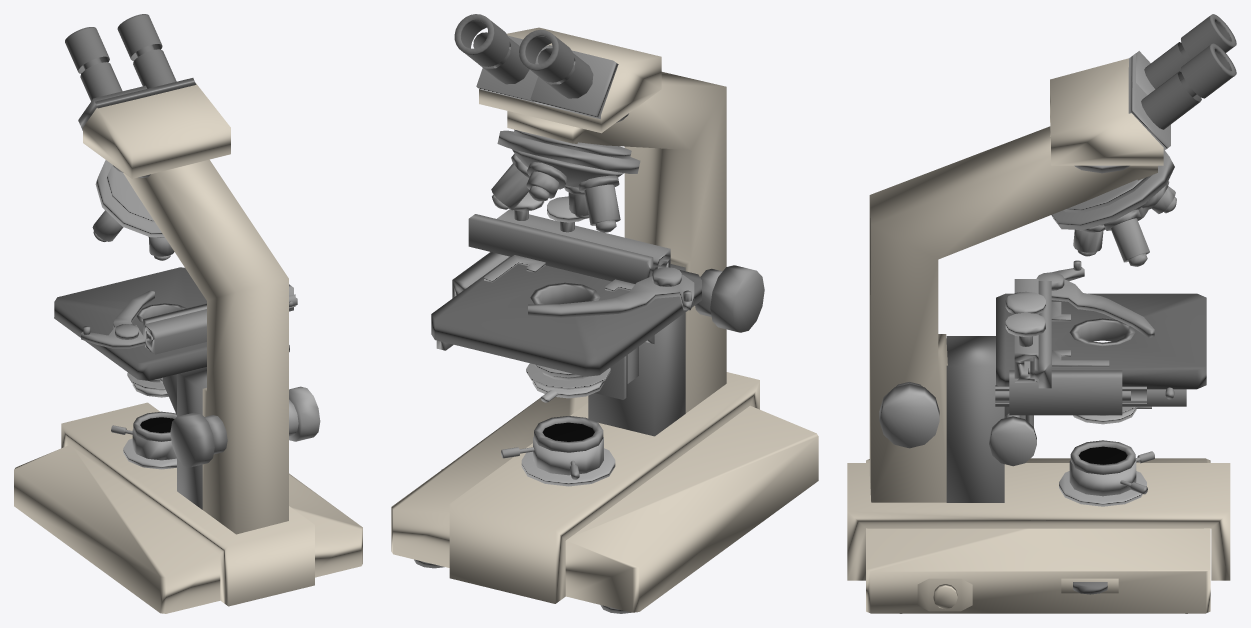
File: micro.fbx
3 renders of one model, left to right at view 1: azimuth 30°, elevation 25°; view 2: azimuth 150°, elevation 25°; view 3: azimuth 270°, elevation 25°, orthographic. The views are drawn at different scales.
Visible parts, largest first — view 1: lensbase; view 2: lensbase; view 3: lensbase.
Part boxes in pixels (x1,y1,x2,y2): lensbase: (14, 14, 362, 613); lensbase: (391, 14, 818, 613); lensbase: (847, 14, 1236, 613).
Bounding box in the file's own units: 15.9 × 33.3 × 22.05.
